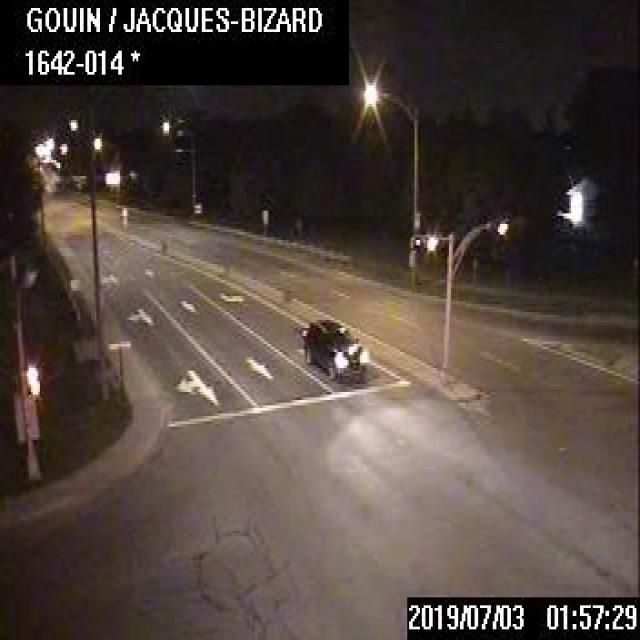vehicle: (300, 316, 367, 381)
